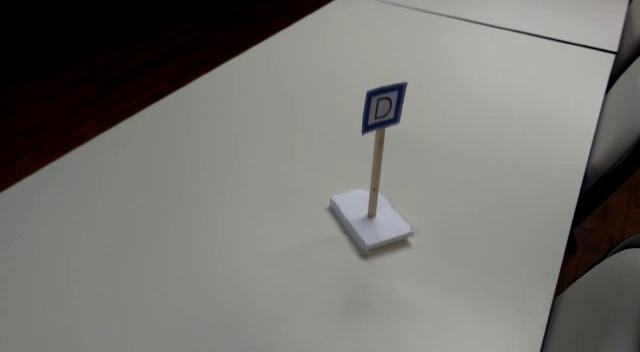durak: (360, 77, 405, 135)
